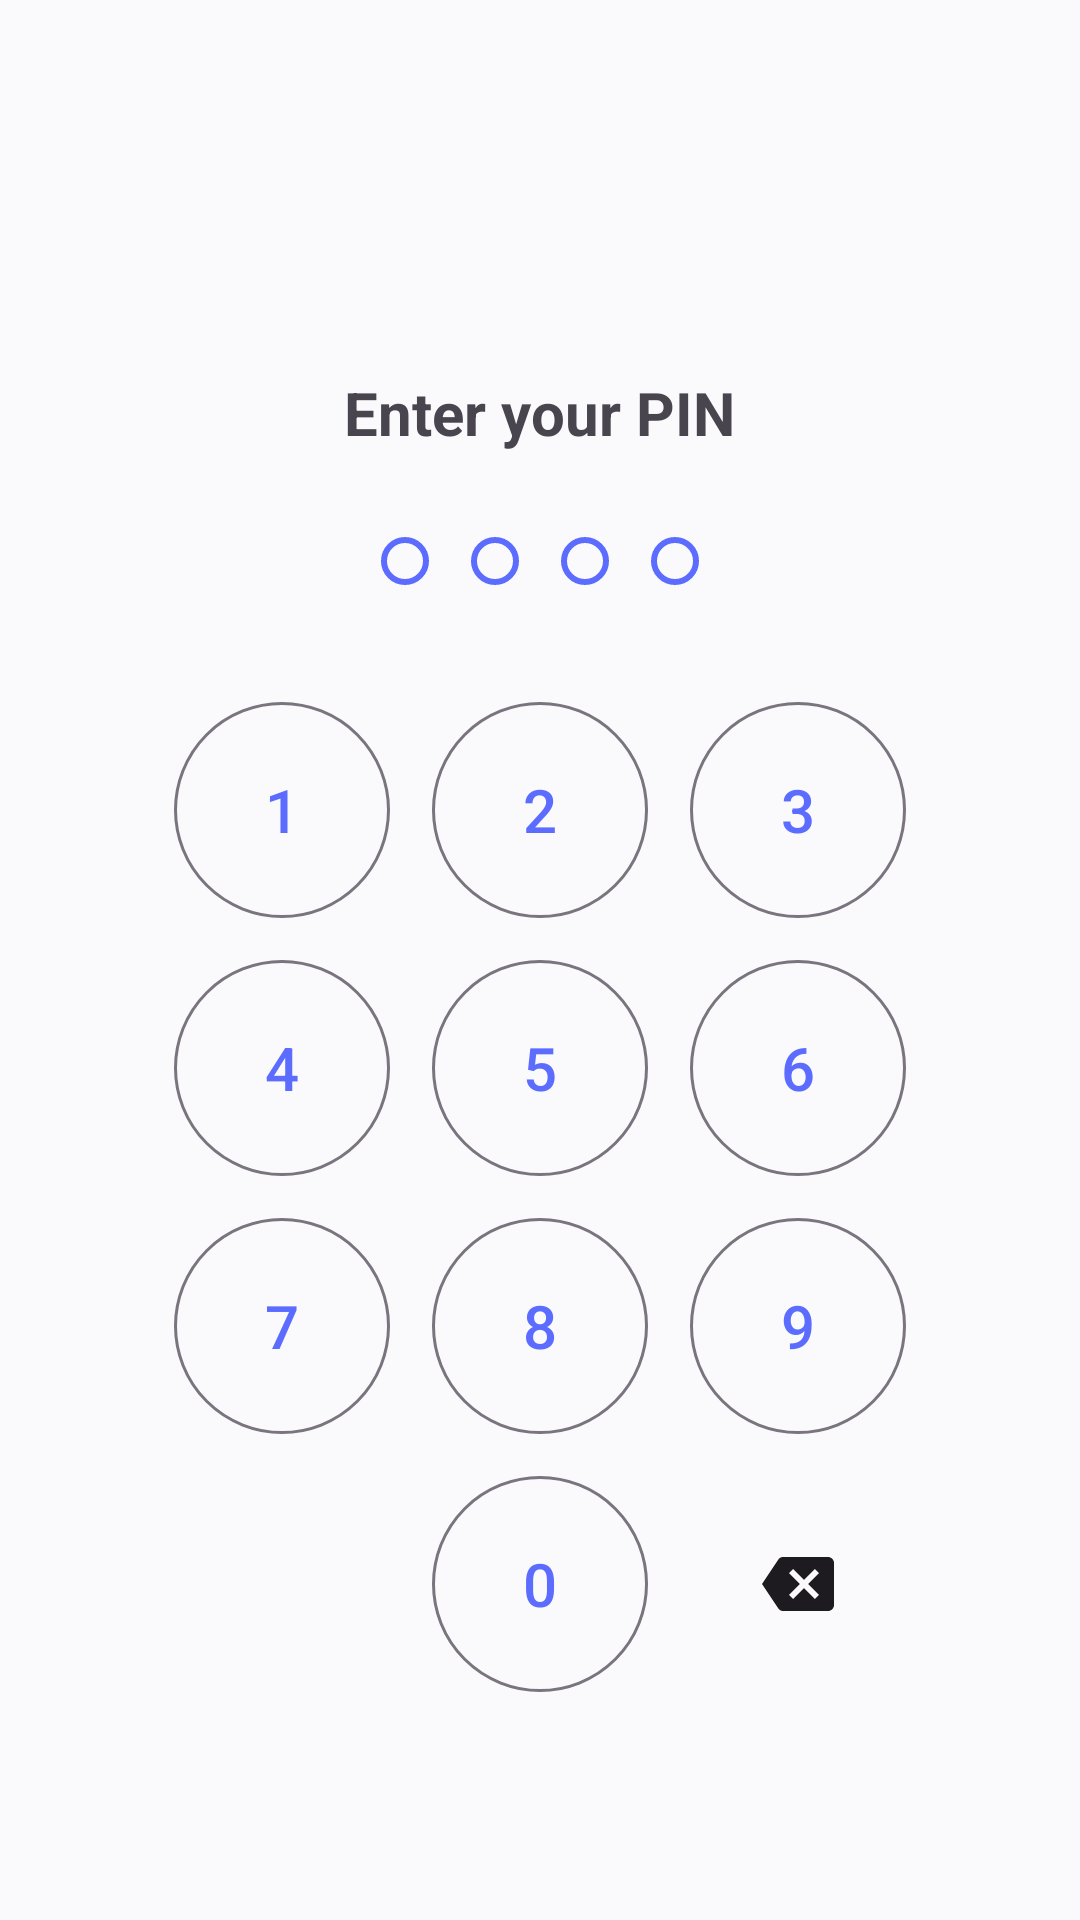

Where icons sit on this 1080px x 1920px app screen, as detection(x1, y1, x2, y2):
Delete: detection(762, 1557, 834, 1611)
